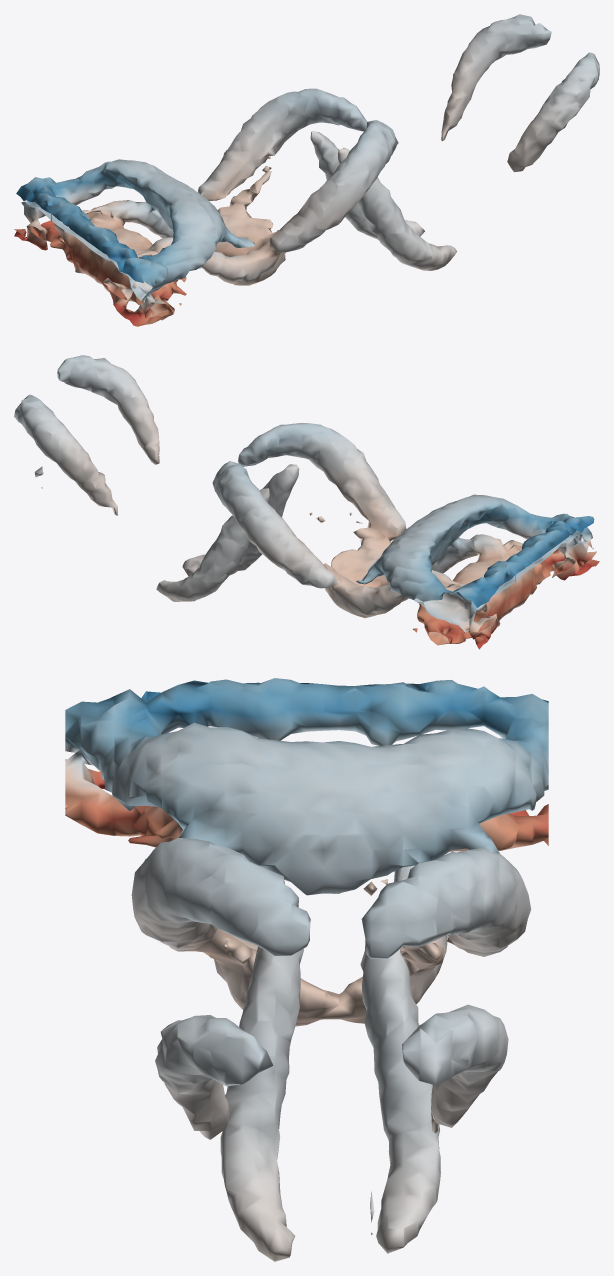
The picture shows the model from 3 angles, top to bottom: view 1: azimuth 30°, elevation 25°; view 2: azimuth 150°, elevation 25°; view 3: azimuth 270°, elevation 25°; orthographic projection. The views are drawn at different scales.
Size of the model in its own units: 5.93 by 2.07 by 2.5.
